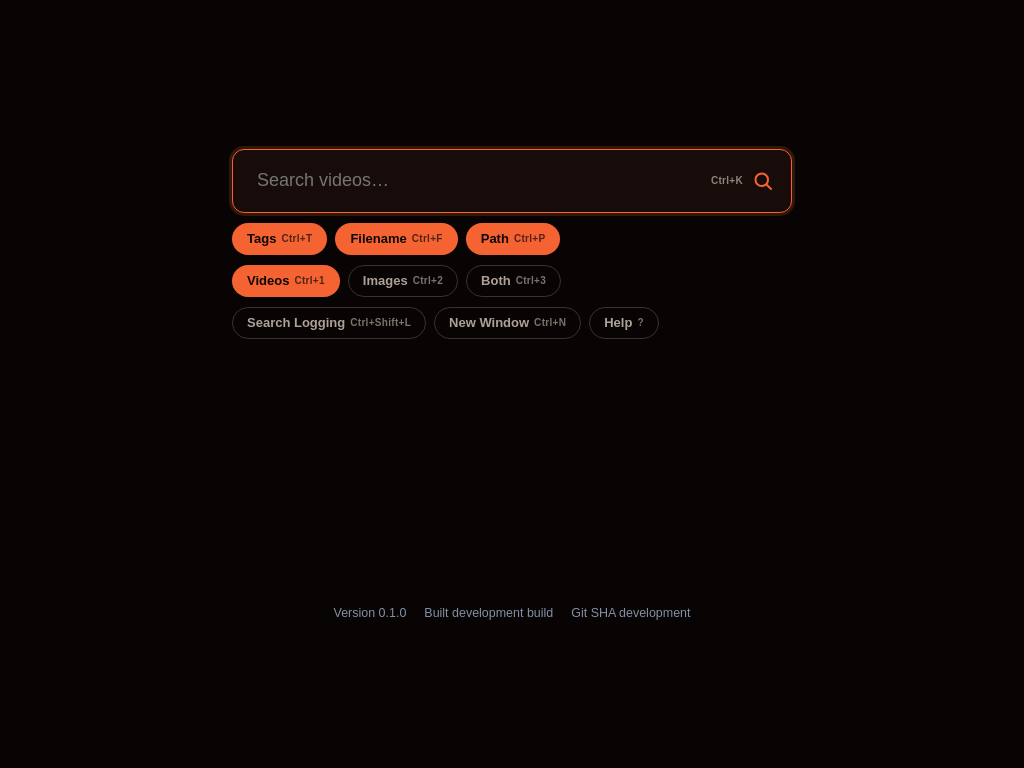
Test: puts one tag on every video in the results
Type "beach" into the search field at (512, 180), box x1=232 y1=148 x2=792 y2=212
Then press Enter
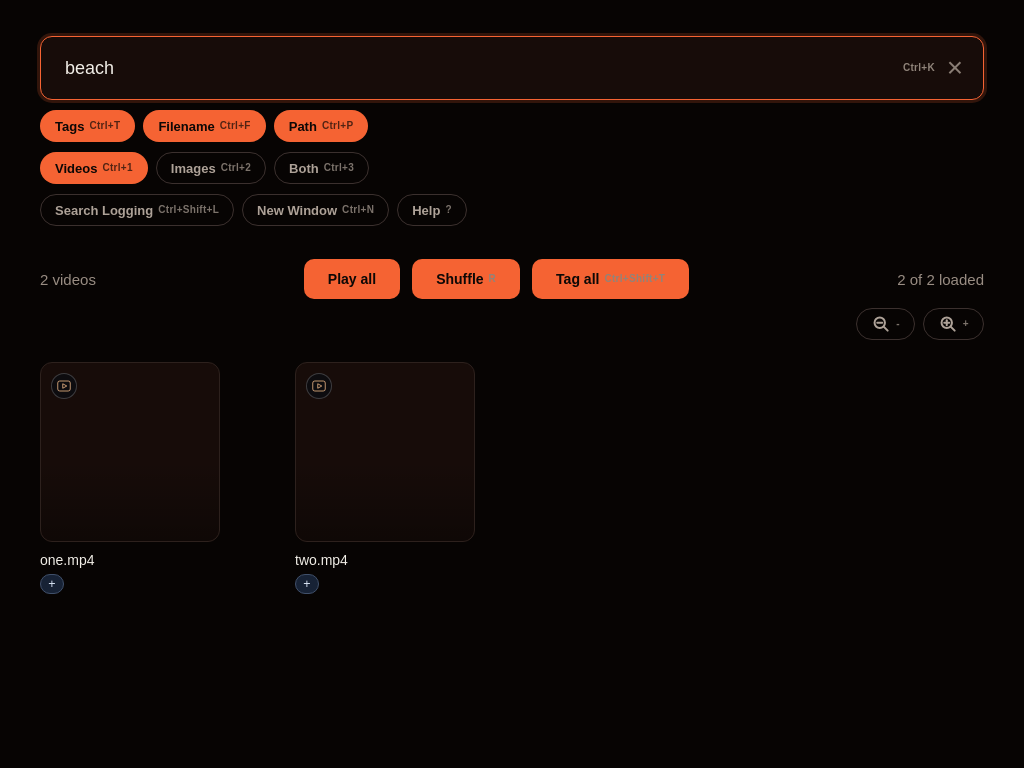
Click the button with aria-label "Tag all 2 videos" at (611, 279), box x1=532 y1=259 x2=689 y2=299
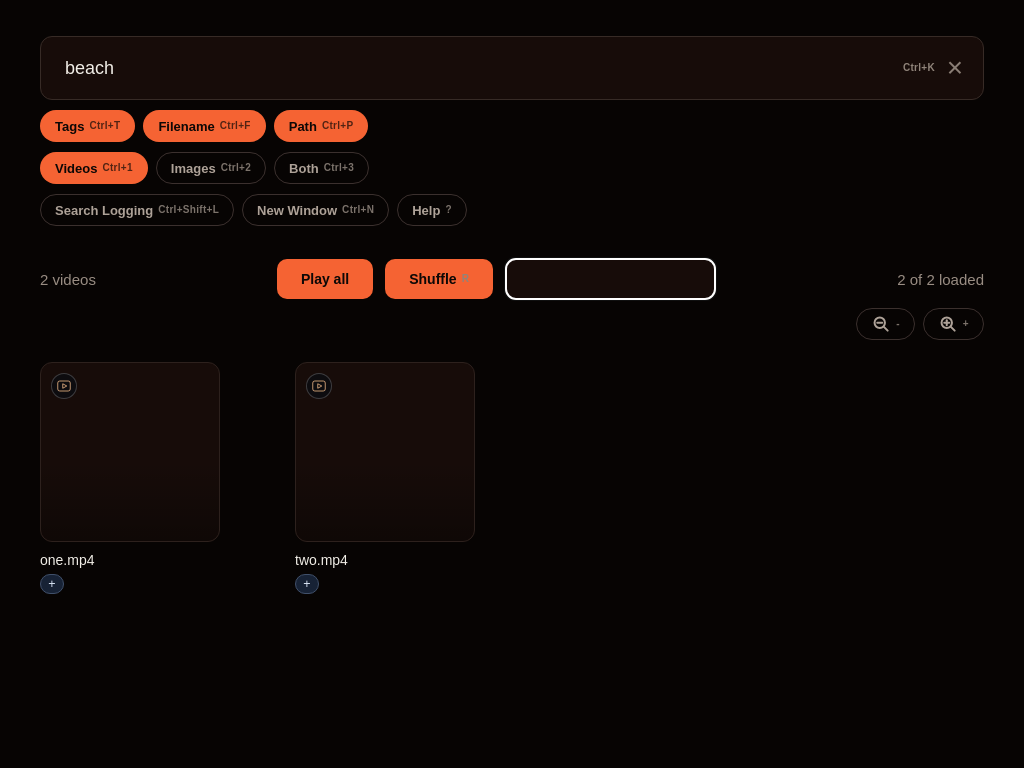
Type "summer" into the field named "Tag all 2 videos" at (611, 279), box x1=505 y1=258 x2=716 y2=300
Then press Enter
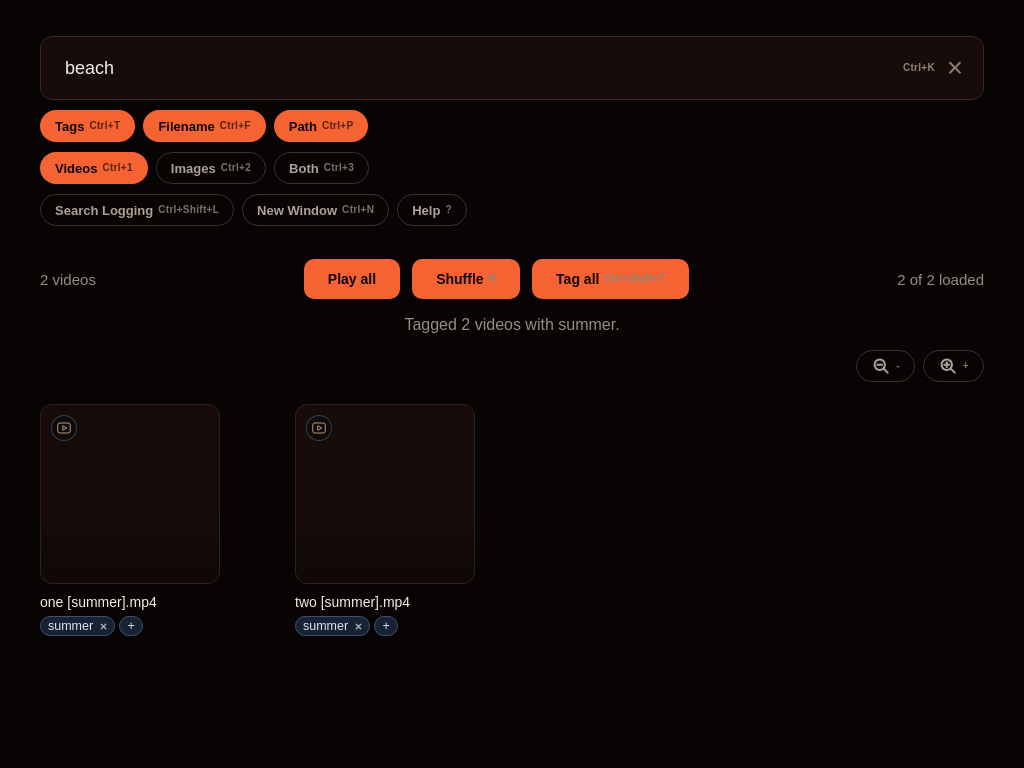
Expected: the button with aria-label "Play one [summer].mp4" is shown, x1=40 y1=404 x2=220 y2=610
Expected: the button with aria-label "Play two [summer].mp4" is shown, x1=295 y1=404 x2=475 y2=610
Expected: the message named "Tagging results" shows "Tagged 2 videos with summer", x1=404 y1=316 x2=620 y2=333
